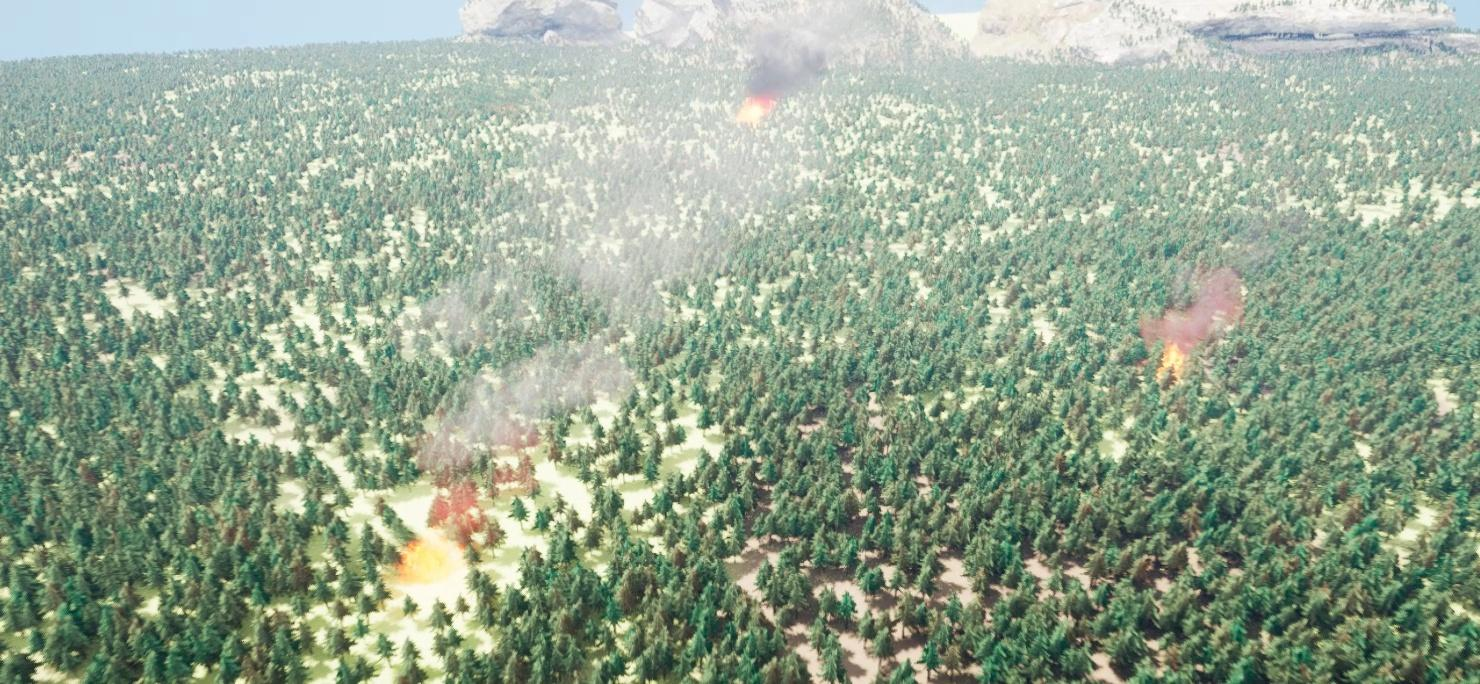fire: (397, 533, 467, 585), (1154, 343, 1190, 384), (735, 98, 772, 121)
smoke: (421, 0, 843, 510), (731, 3, 879, 93), (1139, 267, 1246, 354)
